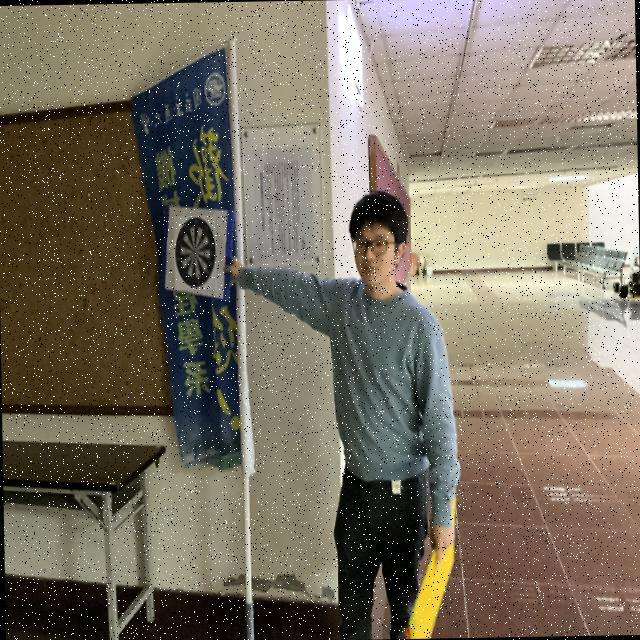archery-targets: (174, 214, 216, 290)
